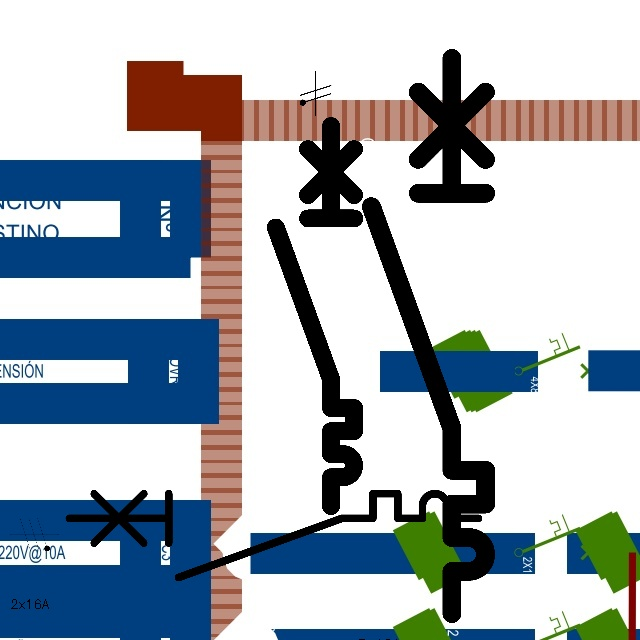interruptor_termomagnetico: (357, 44, 500, 628), (58, 483, 488, 588), (266, 116, 364, 515)
